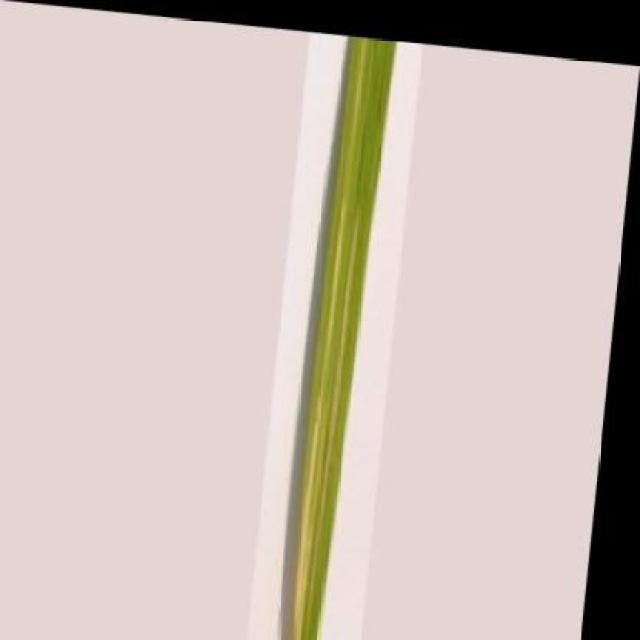Brown_Spot: (283, 26, 400, 640)
